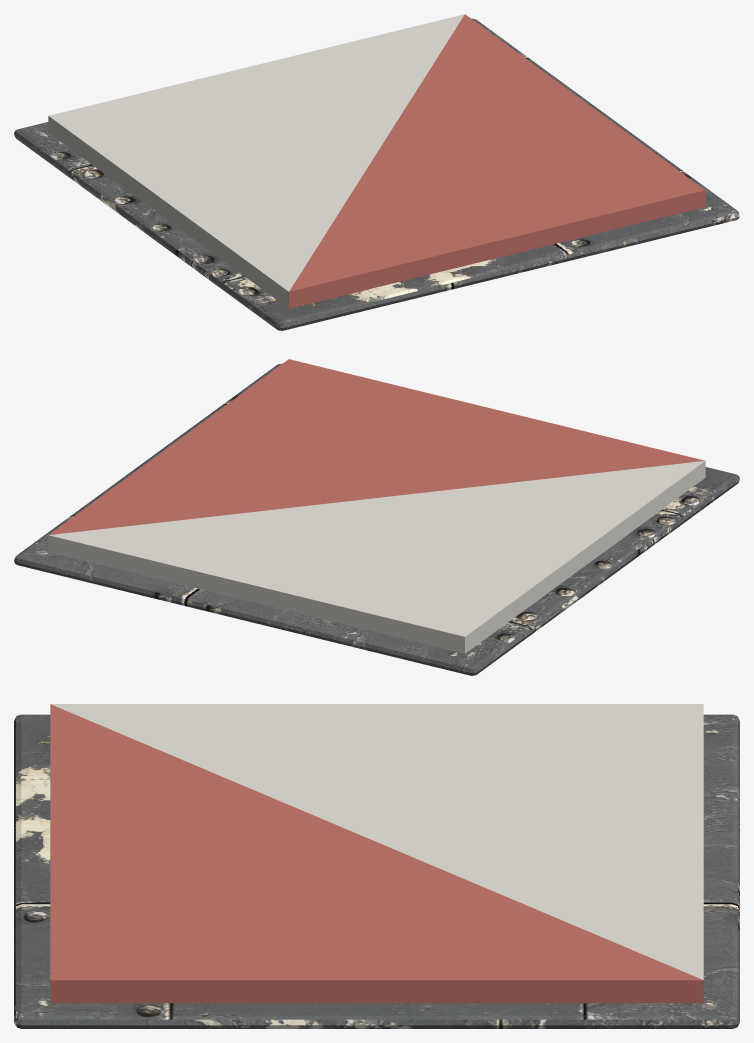
File: inlay_split.glb
3 views of the same model, one above another, from view 1: azimuth 30°, elevation 25°; view 2: azimuth 150°, elevation 25°; view 3: azimuth 270°, elevation 25° (orthographic). The views are drawn at different scales.
Parts seen in each view (by area): view 1: GEO-split-a, GEO-split-b, GEO-inlay-base; view 2: GEO-split-b, GEO-split-a, GEO-inlay-base; view 3: GEO-split-a, GEO-split-b, GEO-inlay-base.
Part boxes in pixels (box(x1,y1,x2,y2)): GEO-split-a: box(289, 14, 705, 308); GEO-split-b: box(48, 14, 464, 308); GEO-inlay-base: box(14, 18, 739, 330); GEO-split-b: box(48, 461, 705, 653); GEO-split-a: box(49, 359, 704, 534); GEO-inlay-base: box(14, 363, 739, 675); GEO-split-a: box(50, 704, 703, 1003); GEO-split-b: box(51, 704, 703, 979); GEO-inlay-base: box(14, 714, 739, 1028).
Size of the model in its own units: 40 by 2.2 by 40.
Materials: 3 (1 with a texture image).
